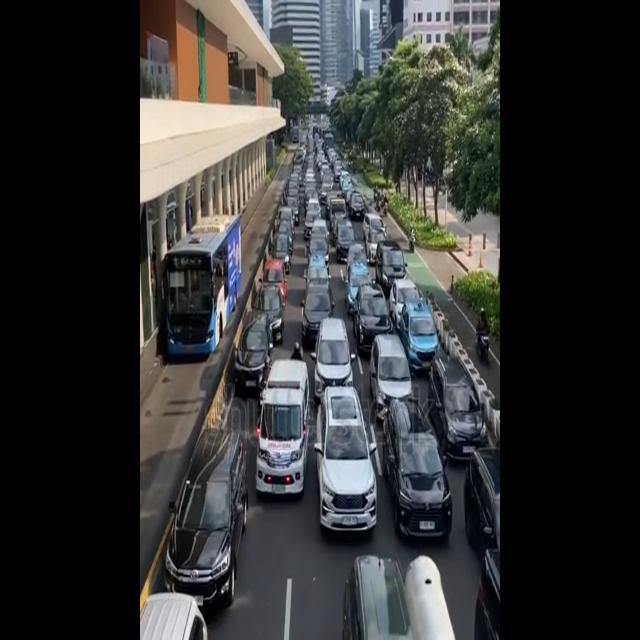Ambulance: (254, 356, 314, 490)
